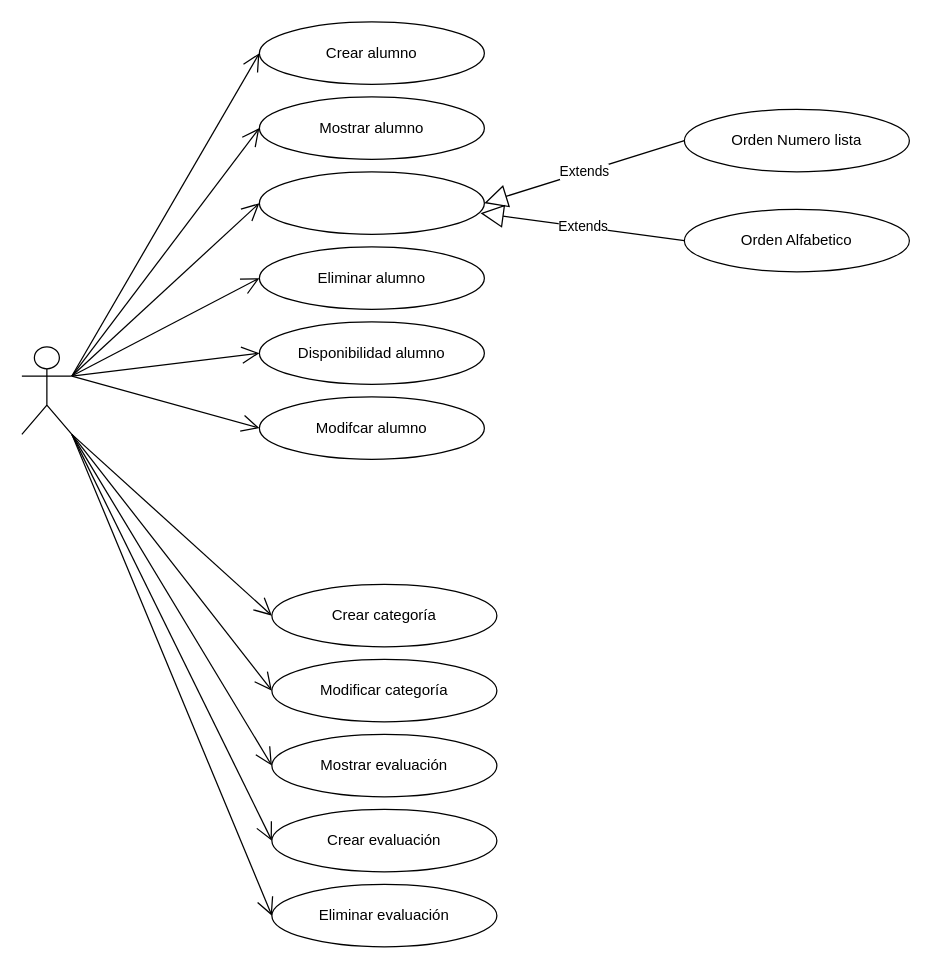
Image size: 931x969. Some labels were removed from this diagram. Each missing label, with the centre of its shape:
"Actor" goes at point (46, 390).
"Mostrar alumnos" goes at point (371, 202).
